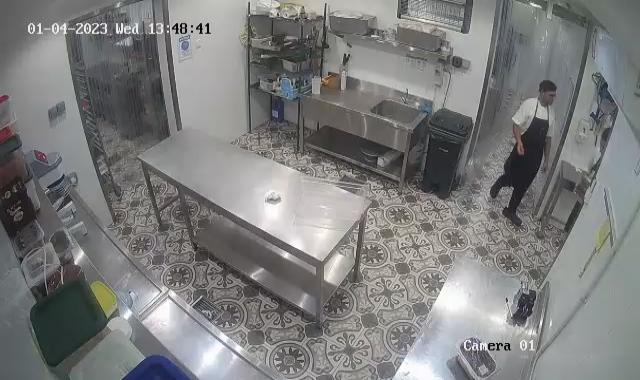no_hairnet: (538, 78, 557, 100)
